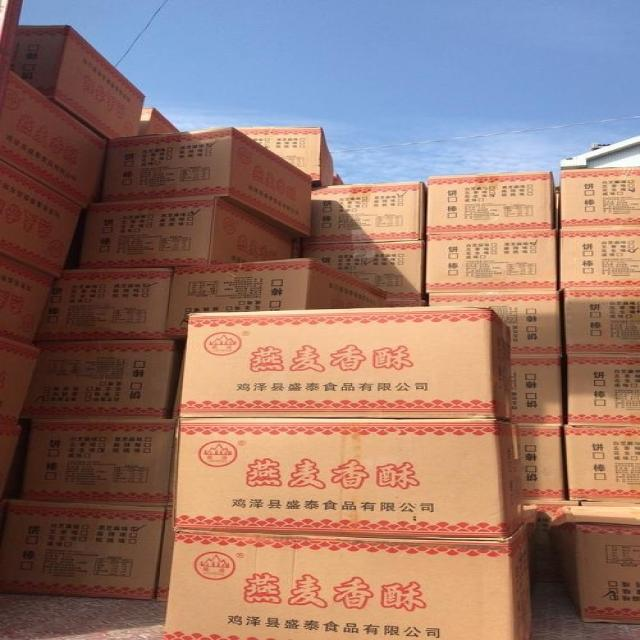box: (163, 517, 534, 640), (169, 418, 526, 539), (172, 305, 513, 421), (101, 127, 315, 237), (168, 257, 389, 339), (0, 48, 110, 208), (1, 498, 168, 599), (78, 198, 301, 268), (12, 25, 147, 140), (18, 418, 175, 506), (24, 339, 183, 418), (549, 503, 639, 624), (35, 267, 174, 340), (0, 159, 83, 279), (425, 290, 563, 357), (425, 229, 561, 293), (303, 181, 428, 245), (426, 172, 557, 233), (302, 240, 426, 299), (233, 127, 334, 186), (563, 426, 639, 503), (563, 353, 640, 428), (0, 254, 58, 345), (561, 288, 639, 355), (557, 227, 639, 289), (557, 173, 640, 229), (0, 336, 44, 429), (518, 424, 567, 501), (511, 357, 563, 426), (525, 500, 581, 546), (155, 506, 174, 602), (1, 427, 22, 500), (138, 107, 180, 135), (388, 299, 428, 307)
